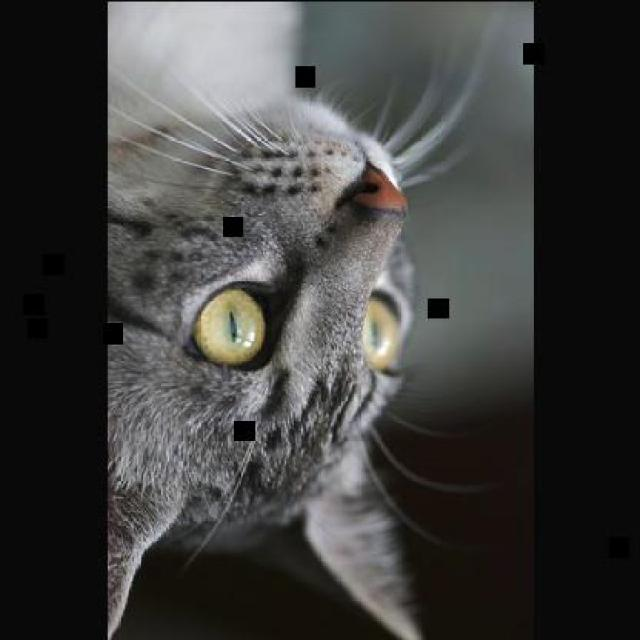unauthorized: (105, 21, 492, 638)
